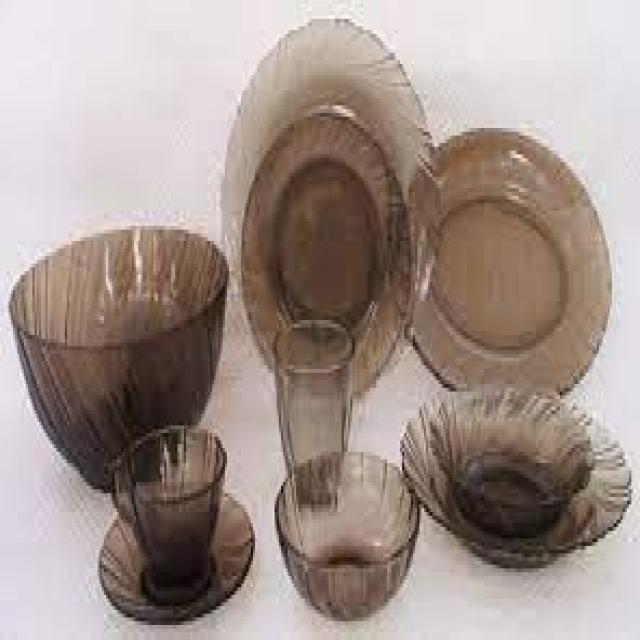glass: (220, 15, 439, 373), (6, 222, 225, 490), (400, 121, 612, 396), (242, 106, 413, 396), (400, 381, 629, 569), (428, 380, 590, 535), (273, 448, 418, 617), (97, 486, 253, 621), (108, 422, 227, 591), (275, 317, 350, 505)
